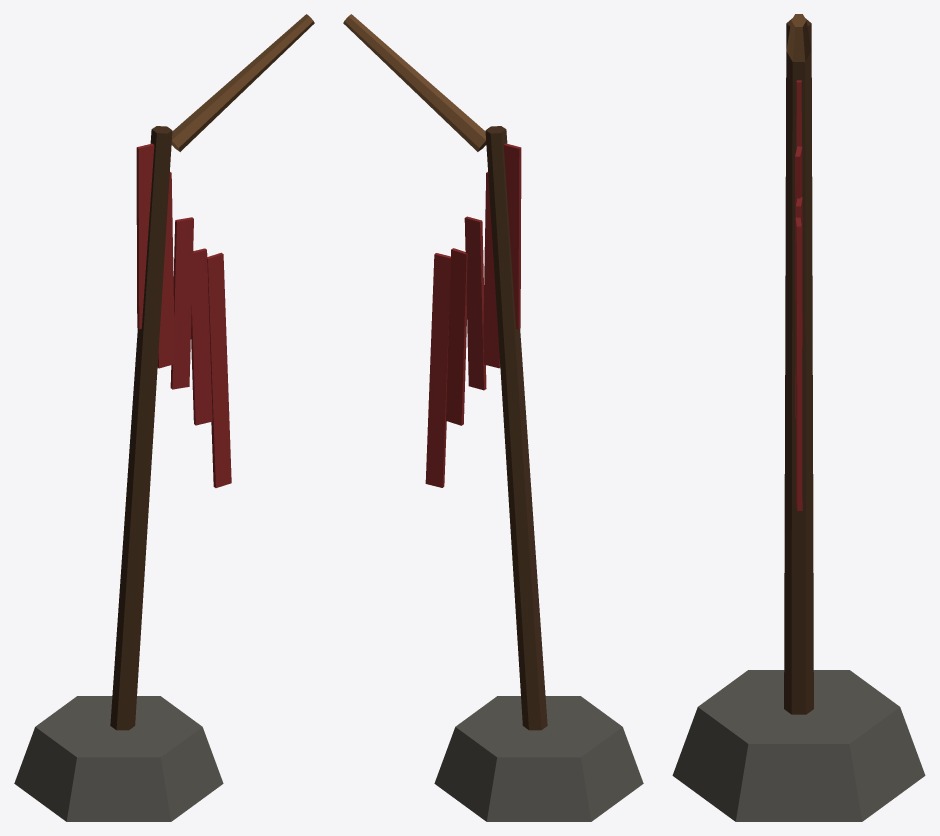
The model's file is sanseong_banner_torn.glb.
3 renders of one model, left to right at view 1: azimuth 30°, elevation 25°; view 2: azimuth 150°, elevation 25°; view 3: azimuth 270°, elevation 25°, orthographic. The views are drawn at different scales.
Parts seen in each view (by area): view 1: sanseong_banner_torn; view 2: sanseong_banner_torn; view 3: sanseong_banner_torn.
Boxes of the visible parts, x1,y1,x2,y2 form: sanseong_banner_torn: (14,14,314,821); sanseong_banner_torn: (343,14,643,821); sanseong_banner_torn: (672,14,925,821).
Bounding box in the file's own units: 1.5 × 3.81 × 1.
